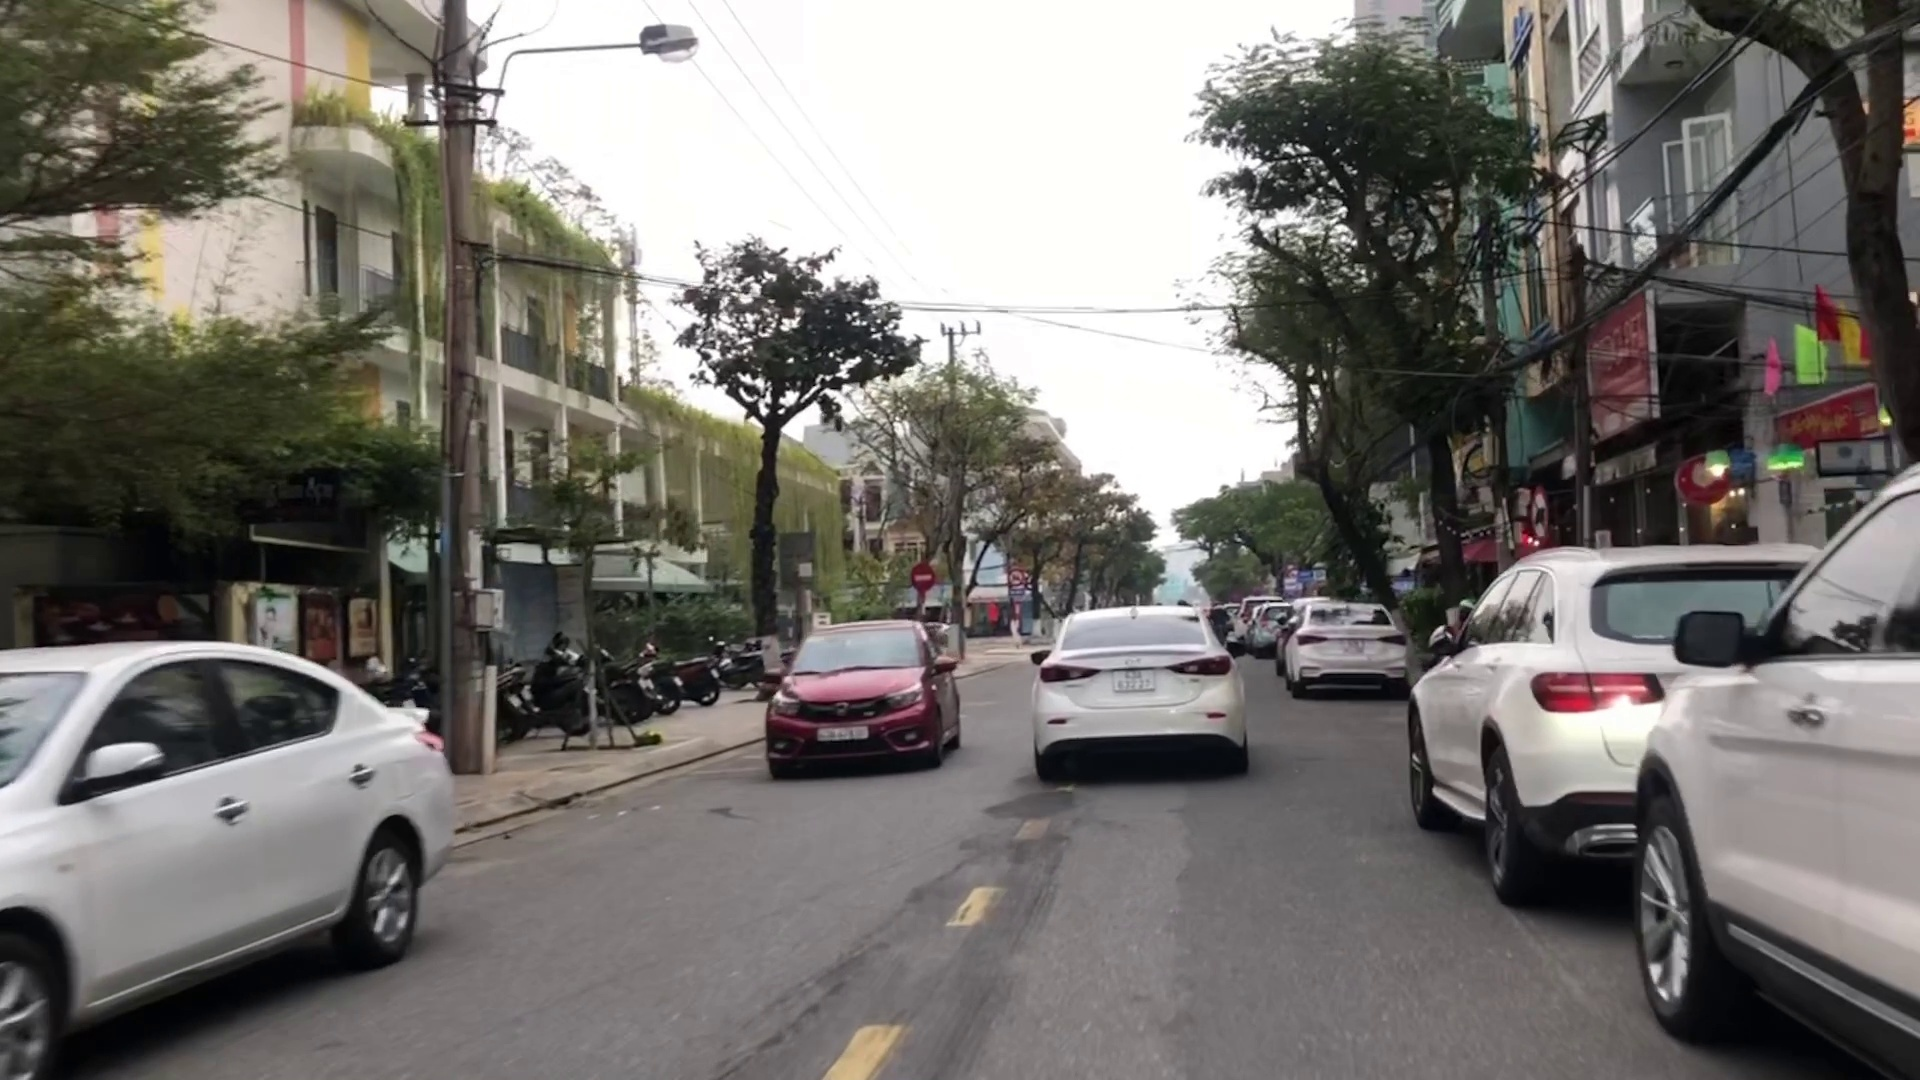Bien khac: (1006, 563, 1025, 587)
Cam di nguoc chieu: (907, 560, 935, 593)
